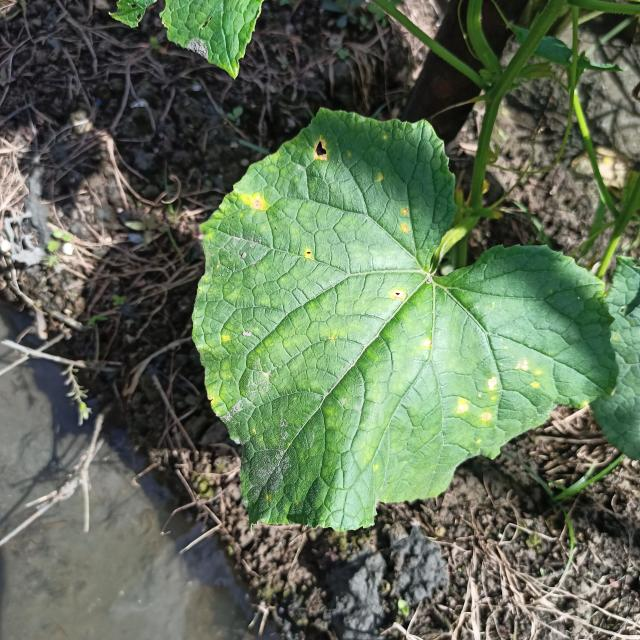disease_cucumber: (456, 358, 543, 422), (311, 138, 333, 168), (240, 191, 265, 212), (397, 206, 412, 235), (390, 286, 406, 303), (422, 338, 431, 349), (304, 248, 312, 258)
